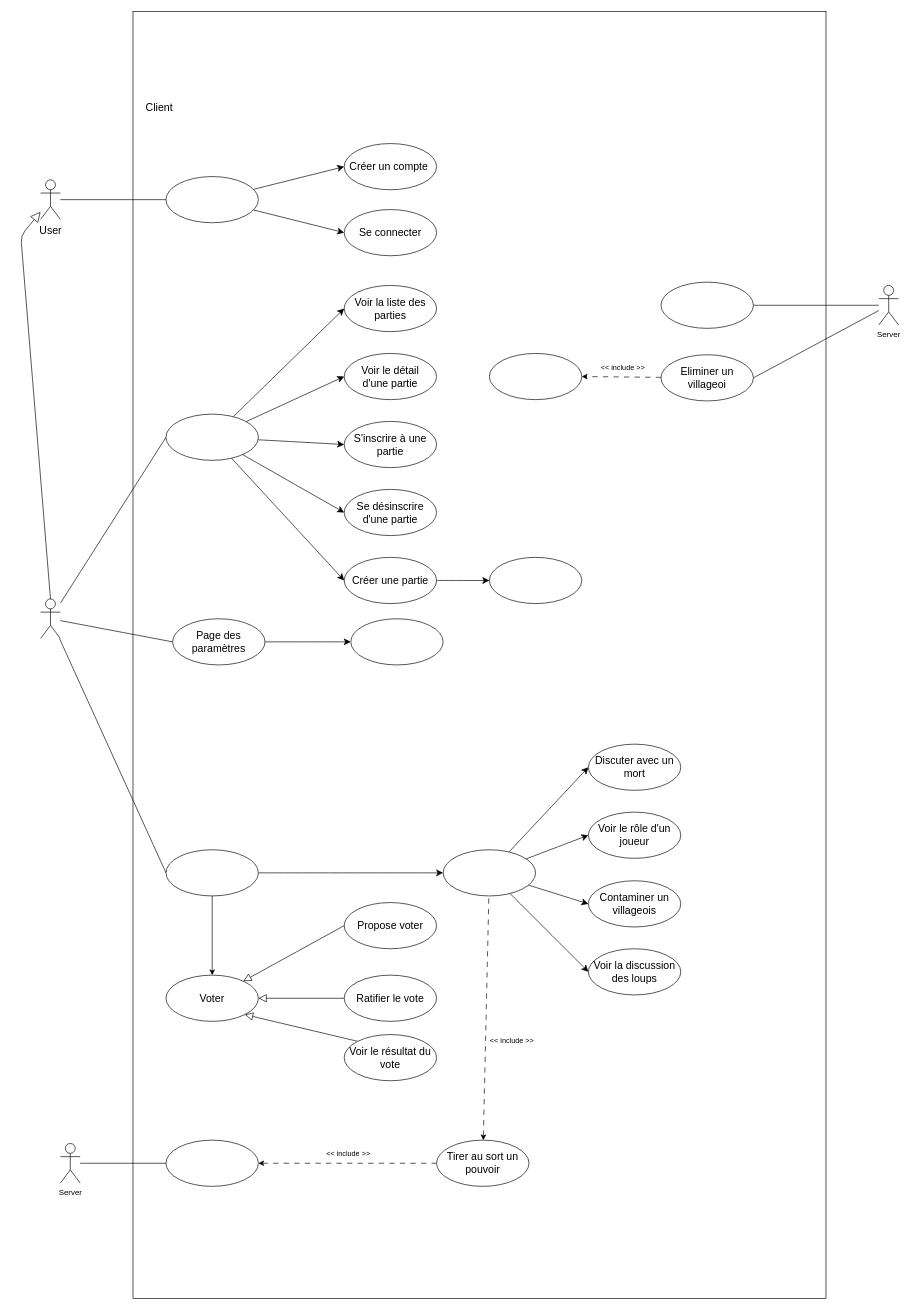
This 911x1310 diagram has some shape labels left out. The shapes that lost their labels are listed below. From the top down, each one's box as (x1, y1, x2, y2) in pixels, then its label:
(165, 176, 258, 223): Page de connexion
(660, 281, 753, 328): Alterner nuit et jour
(489, 353, 582, 400): Comptabilizer les votes
(165, 413, 258, 460): Page des parties
(489, 557, 582, 604): Changer les paramètres
(40, 598, 60, 639): Player
(350, 618, 443, 665): Se déconnecter
(165, 849, 258, 896): Page du jeux
(443, 849, 536, 896): Faire l'action de son pouvoir
(165, 1139, 258, 1186): Attribuer un rôle
